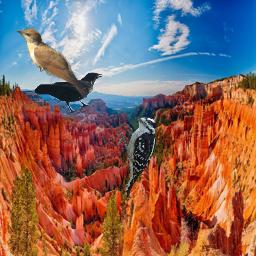Crow: (34, 72, 104, 113)
Cuckoo: (16, 28, 87, 98)
Woodpecker: (117, 115, 161, 198)
